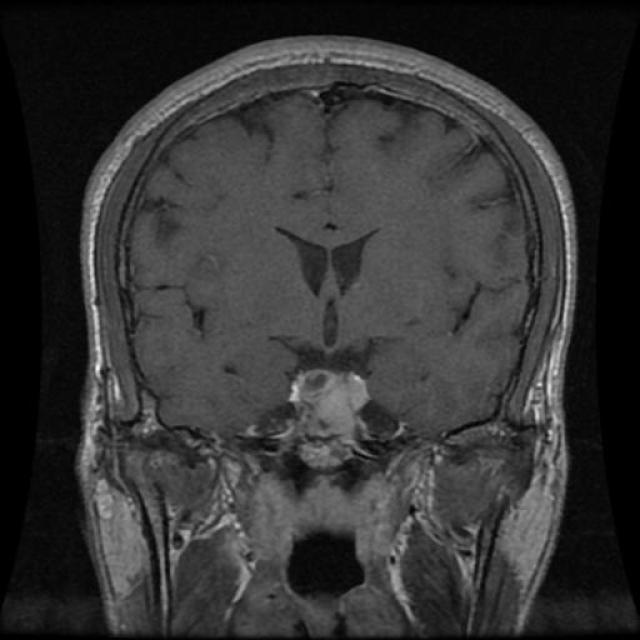pituitary: (272, 347, 370, 481)
